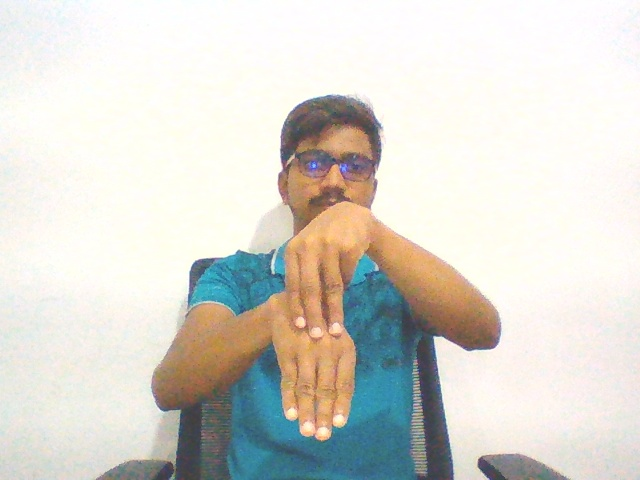papaya: (262, 189, 377, 447)
